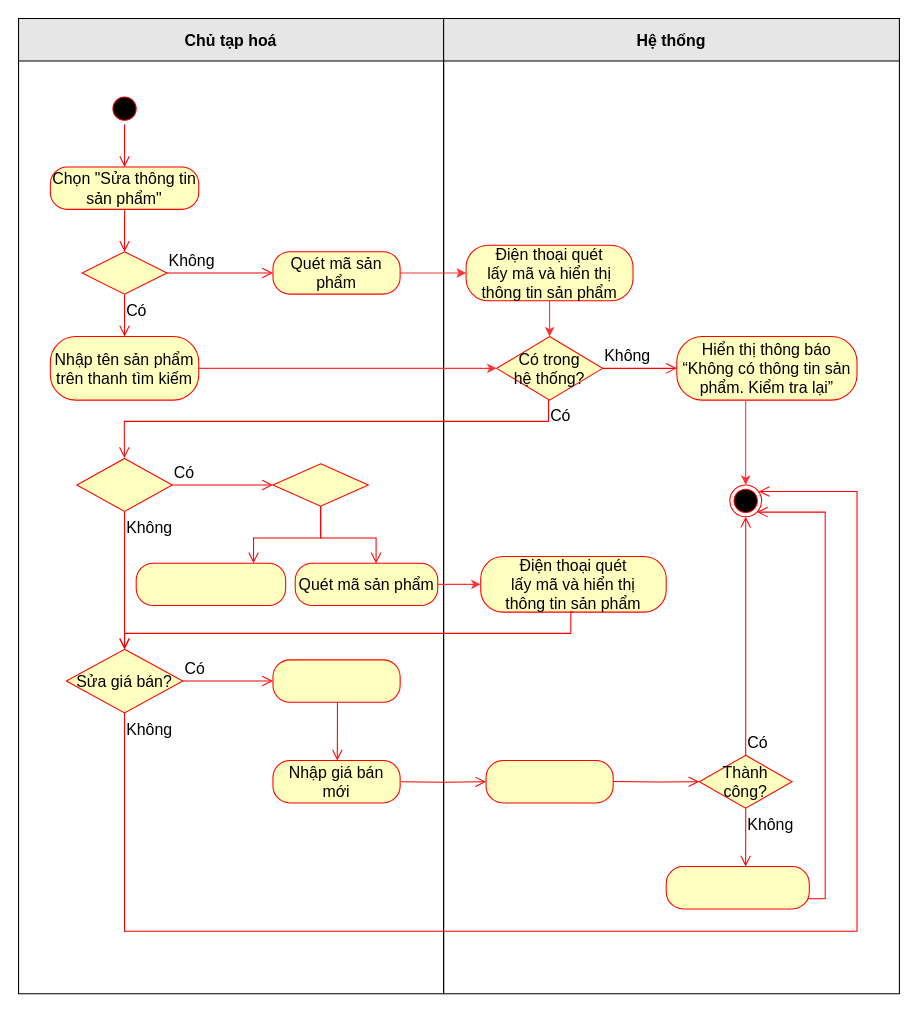
This 918x1012 diagram has some shape labels left out. Here are the shapes that lost their labels. From the top down, the centre of each, then its label:
(124,272): Nhập?
(124,484): Sửa ảnh?
(320,484): Cách thêm
(210,584): Thêm ảnh sản phẩm từ thư viện ảnh
(336,680): Xoá giá bán cũ
(549,781): Lưu thông tin sản phẩm
(737,887): Hiển thị thông báo “Có lỗi xảy ra”
